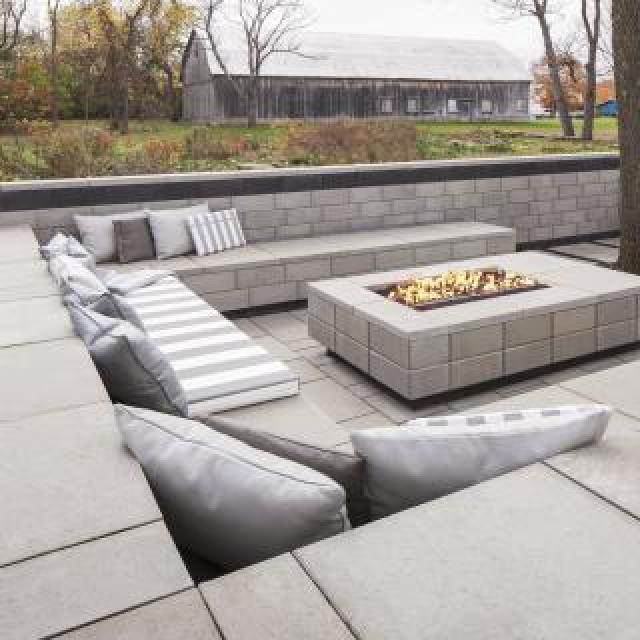Fire: (390, 260, 534, 302)
